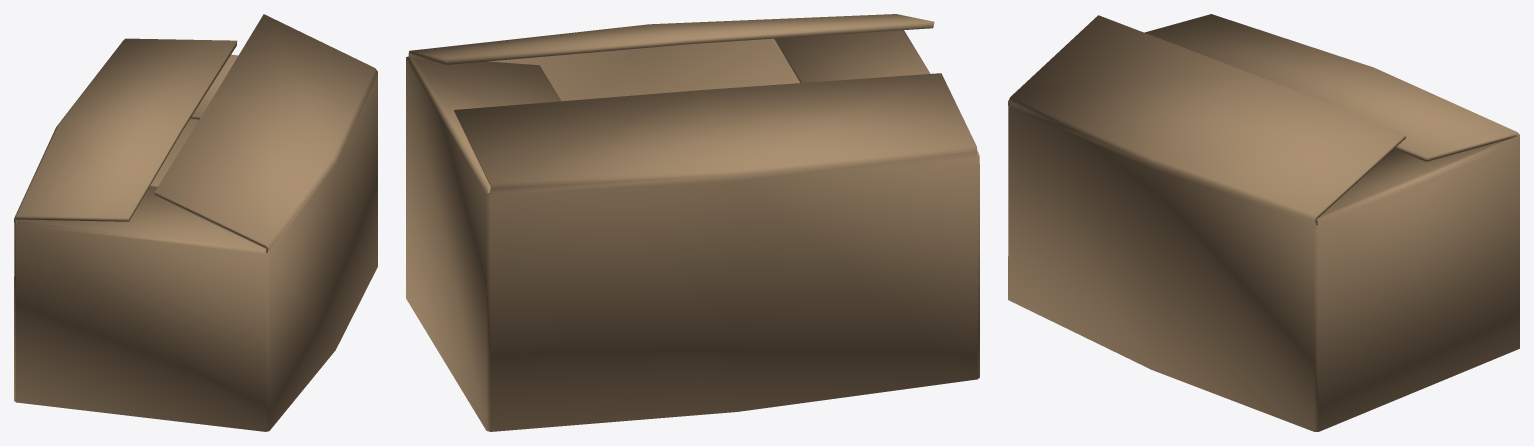
File: caixa.fbx
3 renders of one model, left to right at view 1: azimuth 30°, elevation 25°; view 2: azimuth 150°, elevation 25°; view 3: azimuth 270°, elevation 25°, orthographic. The views are drawn at different scales.
Visible parts, largest first — view 1: caixaberta; view 2: caixaberta; view 3: caixaberta.
Part boxes in pixels (x1,y1,x2,y2): caixaberta: [14, 14, 377, 431]; caixaberta: [406, 14, 979, 431]; caixaberta: [1008, 14, 1519, 431].
Size of the model in its own units: 133 by 74.4 by 133.
